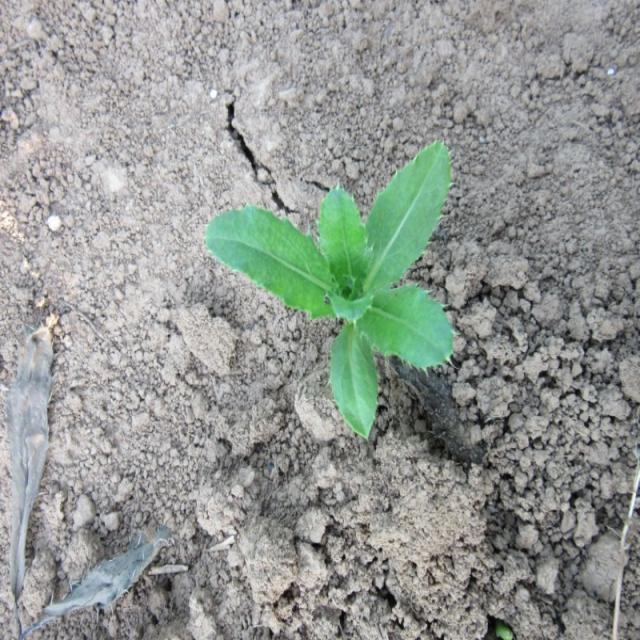cs: (203, 139, 456, 444)
